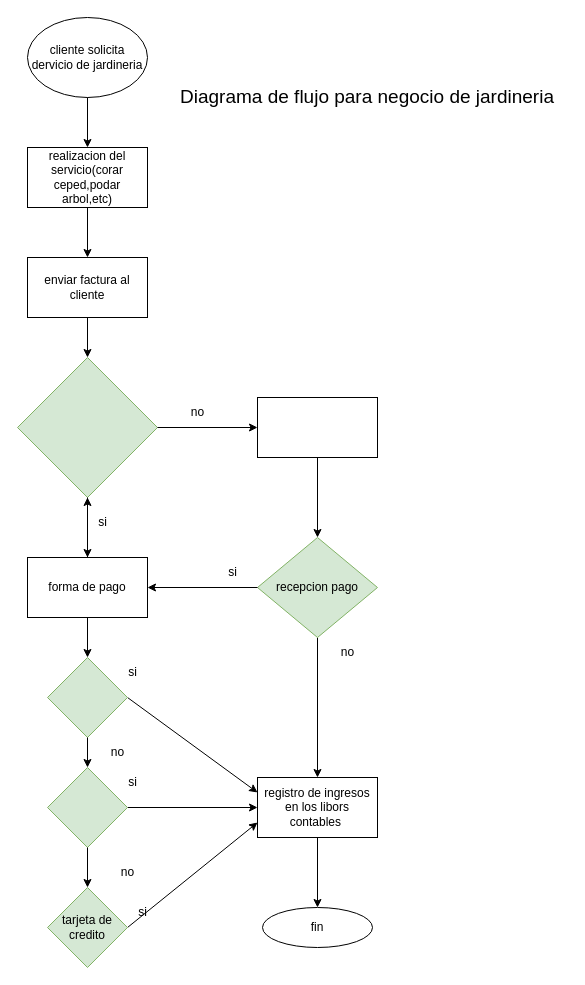
This 585x985 diagram has some shape labels left out. The shapes that lost their labels are listed below. From the top down, each one's centre as x and y in pixels, then its label:
the point at 87,427: el cliente va a relizar el pago a tiempo?
the point at 317,427: enviar recordatorio del pago
the point at 87,697: pago en effctivo?
the point at 87,807: pago por transferencia
